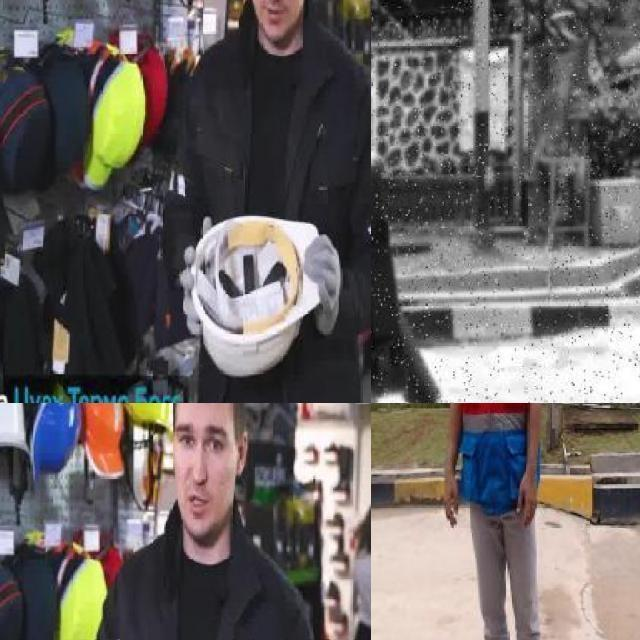apron: (301, 232, 343, 316), (182, 214, 210, 340)
